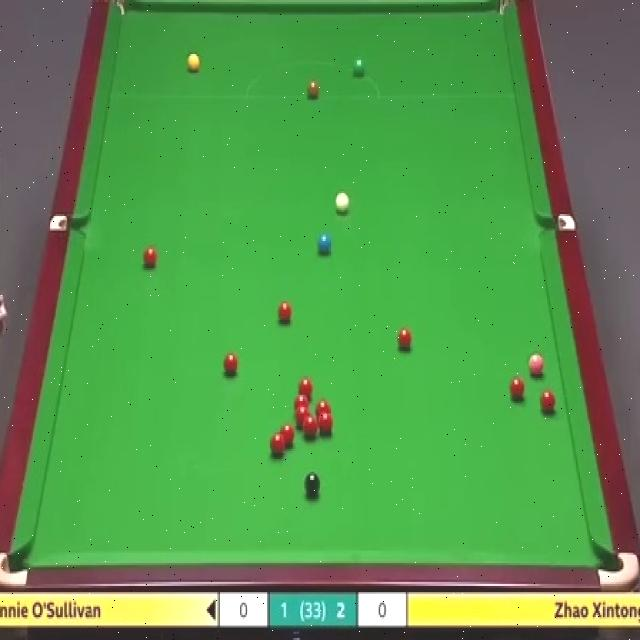black-ball: (303, 472, 321, 494)
blue-ball: (316, 232, 333, 256)
brown-ball: (306, 80, 319, 100)
green-ball: (353, 55, 365, 77)
pink-ball: (527, 353, 546, 377)
red-ball: (539, 388, 556, 412), (510, 374, 525, 401), (271, 431, 286, 457), (277, 300, 293, 324), (396, 326, 412, 349), (319, 410, 333, 436), (223, 351, 238, 374), (142, 247, 157, 270), (280, 423, 294, 447), (298, 376, 312, 399), (304, 415, 318, 438), (293, 394, 309, 412), (296, 406, 309, 427), (315, 398, 332, 414)
white-ball: (334, 192, 350, 217)
yellow-ball: (187, 53, 199, 74)
